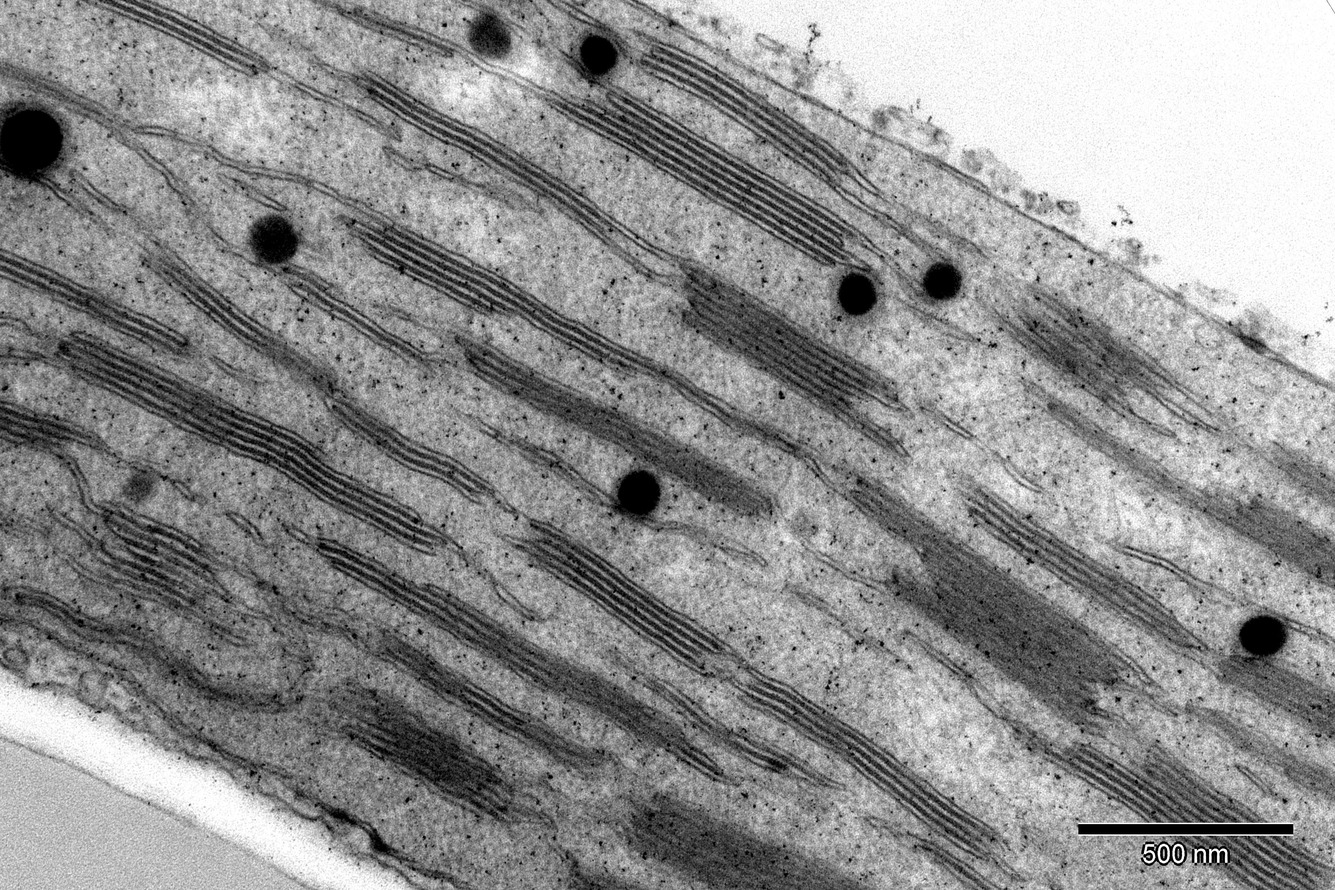granum: (52, 325, 443, 559), (841, 467, 1134, 742), (323, 539, 687, 757), (538, 78, 855, 272), (460, 330, 777, 522), (342, 198, 647, 384), (731, 669, 1012, 867), (353, 66, 619, 247), (952, 470, 1198, 661), (1050, 735, 1335, 889), (668, 254, 902, 434), (369, 620, 607, 783), (136, 233, 344, 402), (635, 35, 853, 191), (521, 521, 727, 675), (974, 261, 1170, 414), (325, 672, 520, 824), (617, 783, 892, 890), (0, 243, 190, 363), (323, 386, 498, 509), (89, 497, 238, 628), (1189, 477, 1335, 594), (1188, 702, 1334, 813), (77, 0, 275, 79), (1210, 651, 1335, 746), (1256, 435, 1335, 518), (1, 393, 84, 463), (725, 724, 813, 785)
